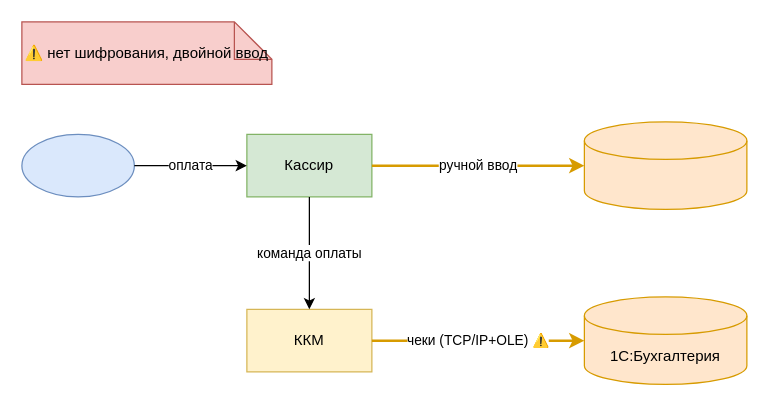
The diagram is 769 pixels wide and 406 high, and some of its shapes have lost their labels. The centre of each missing label's shape, as x and y in pixels:
Excel (дублирование): the point at 665,165
Пациент: the point at 77,165
